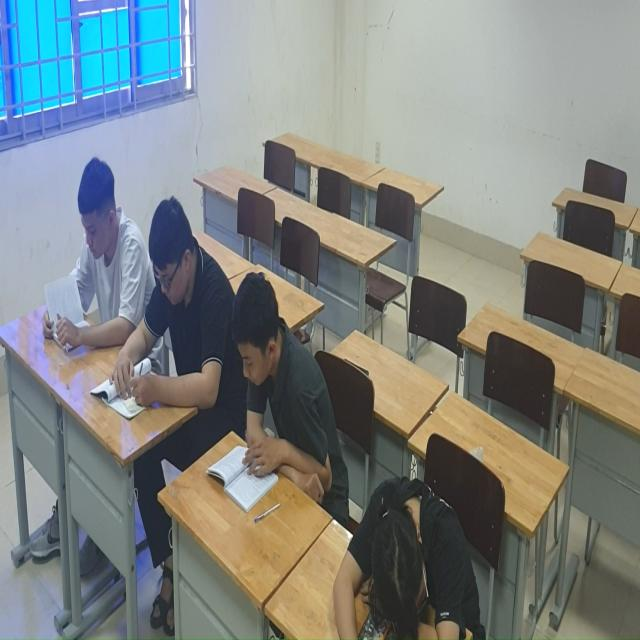read: (113, 184, 225, 431), (222, 274, 332, 504), (41, 153, 145, 363)
sleep: (331, 481, 473, 640)
